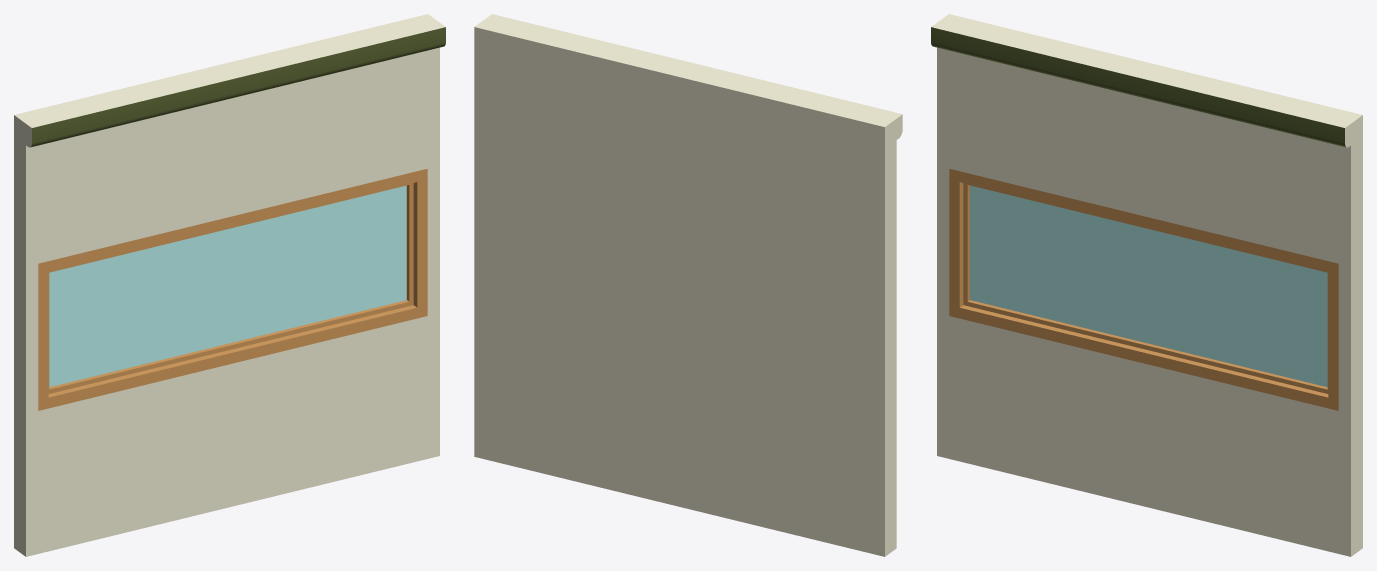
Rendered from Modular_02_Window.fbx.
3 renders of one model, left to right at view 1: azimuth 30°, elevation 25°; view 2: azimuth 150°, elevation 25°; view 3: azimuth 330°, elevation 25°, orthographic.
Parts seen in each view (by area): view 1: Modular_02_Window; view 2: Modular_02_Window; view 3: Modular_02_Window.
Part boxes in pixels (x1,y1,x2,y2): Modular_02_Window: [14, 14, 445, 556]; Modular_02_Window: [474, 14, 902, 556]; Modular_02_Window: [931, 14, 1362, 556].
Size of the model in its own units: 200 by 200 by 15.
